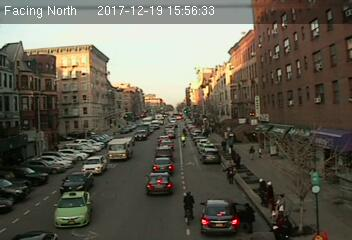bicycle: (181, 191, 197, 229)
car: (53, 191, 92, 227), (61, 171, 92, 194), (145, 172, 173, 194), (82, 155, 105, 174), (201, 148, 221, 165), (152, 156, 172, 172), (155, 145, 173, 157), (133, 129, 147, 140)
pedestrian: (224, 162, 235, 186)
truck: (106, 137, 134, 161)
